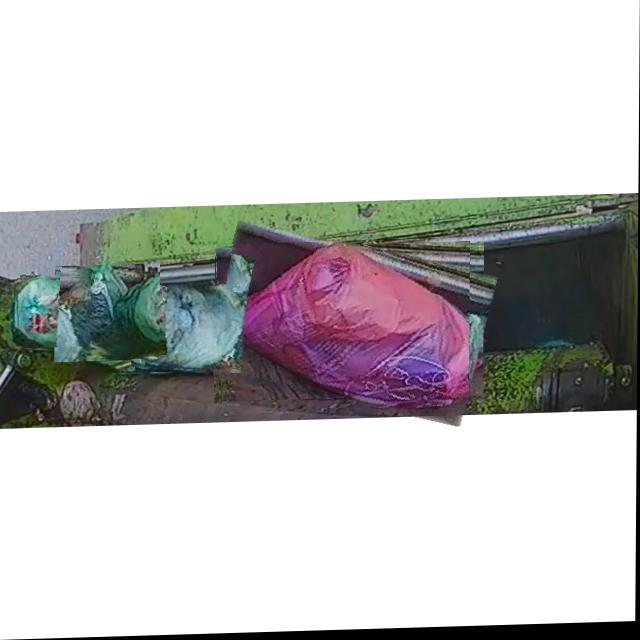general_trashbag: (57, 265, 159, 358), (139, 288, 242, 371), (17, 279, 90, 347)
other_trashbag: (218, 244, 469, 408)
